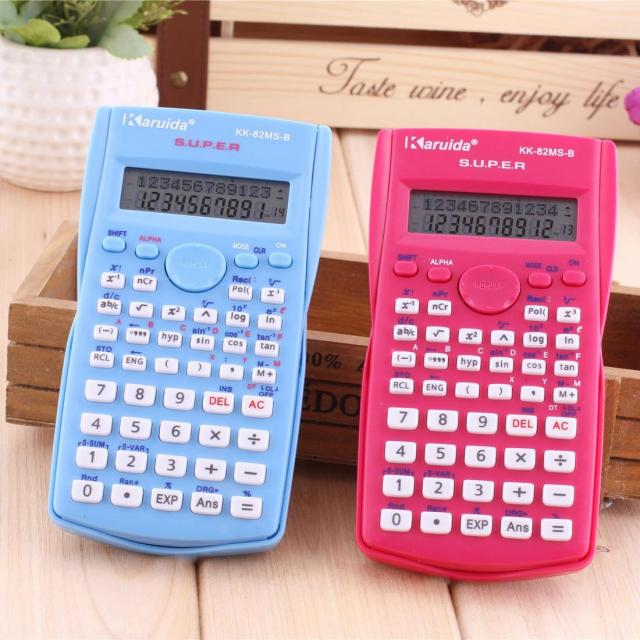Calculator: (361, 120, 624, 611)
